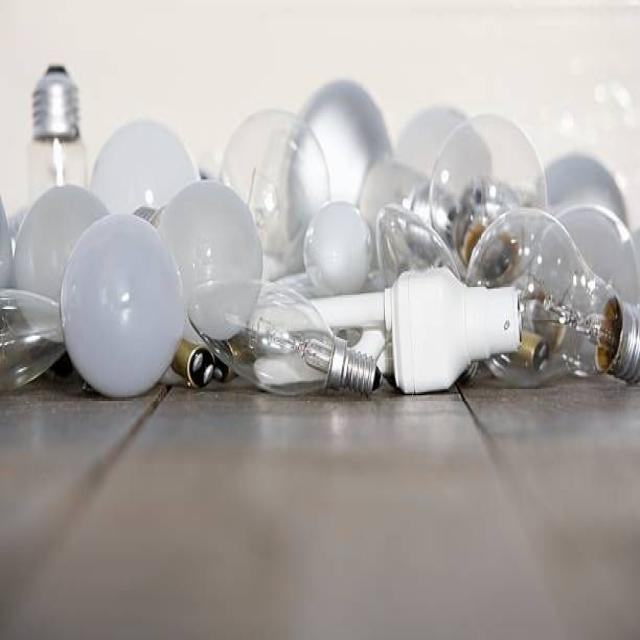electronic: (1, 64, 638, 400), (59, 210, 186, 398), (218, 107, 330, 279), (156, 177, 263, 342)
